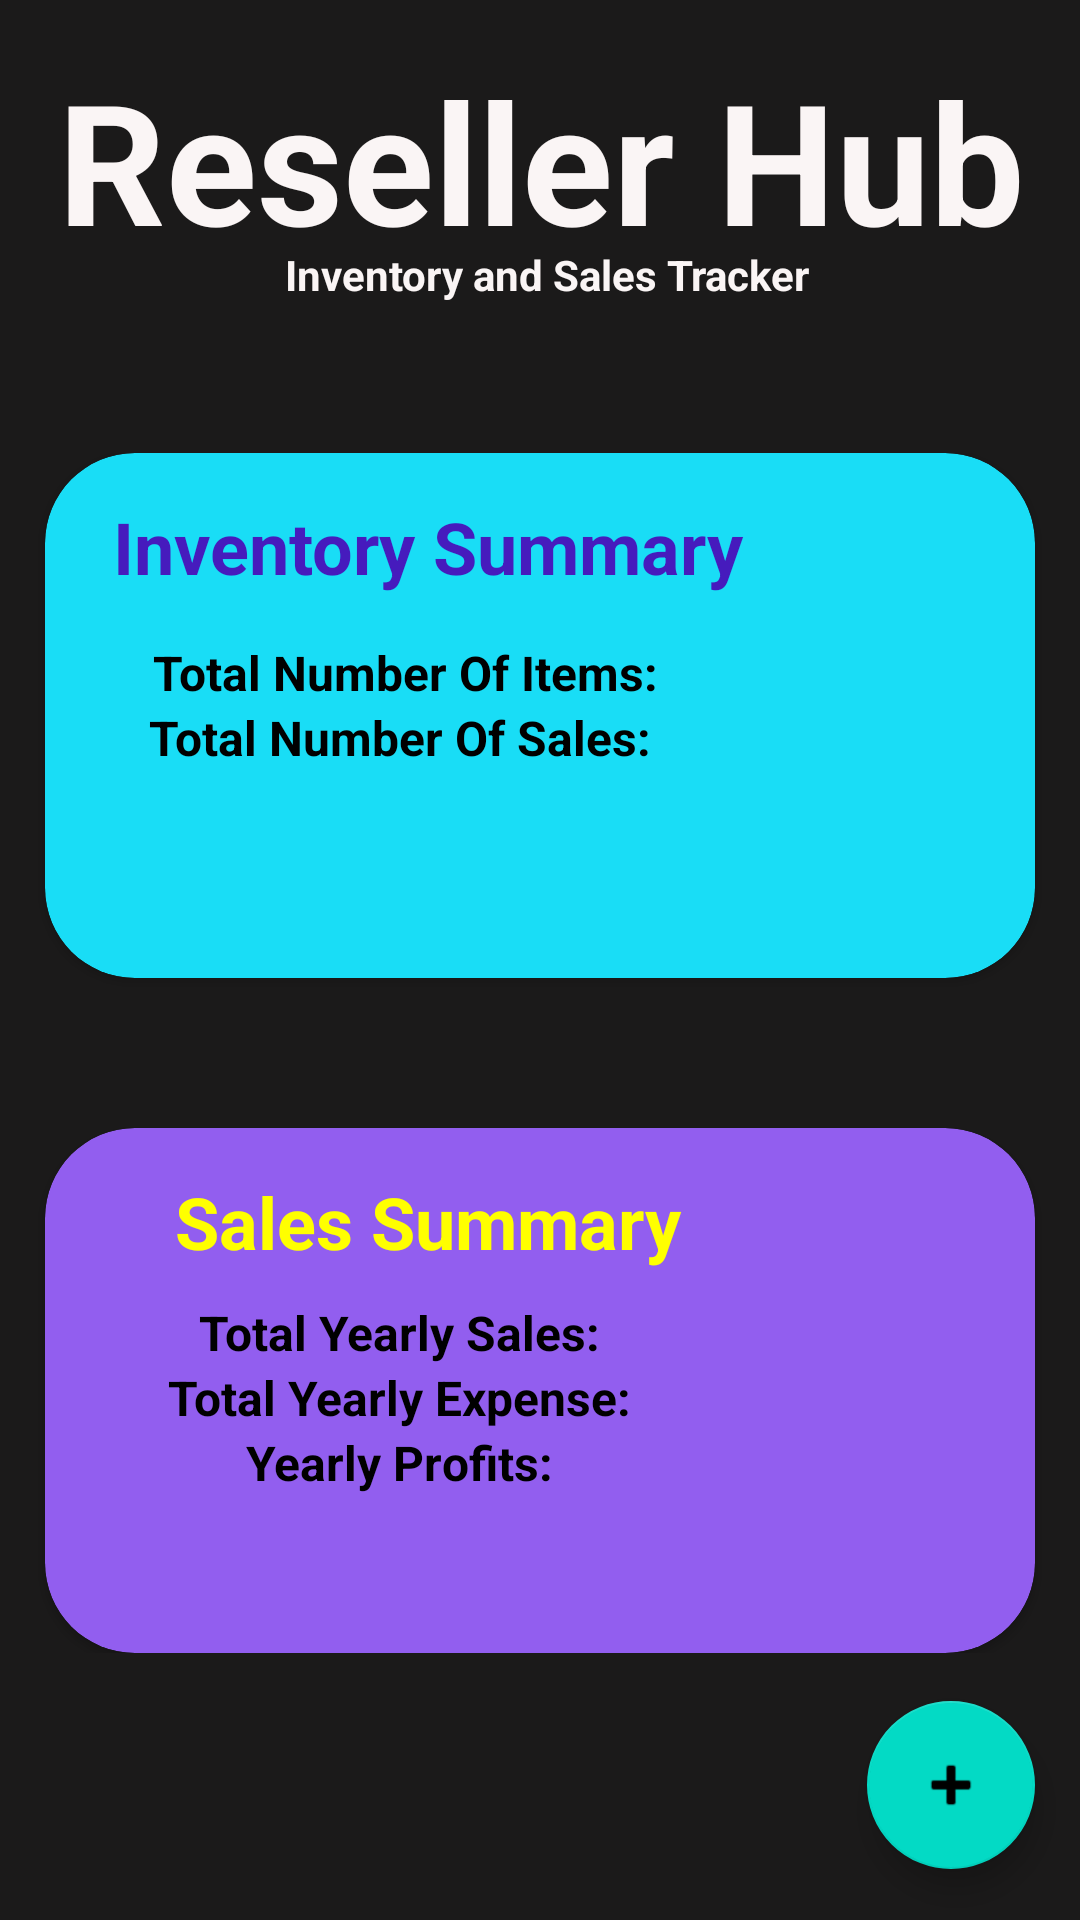

Icon bounding boxes for this 1080w x 1920h phone screenshot, format (x1, y1, x2, y2):
add: (867, 1701, 1035, 1869)
